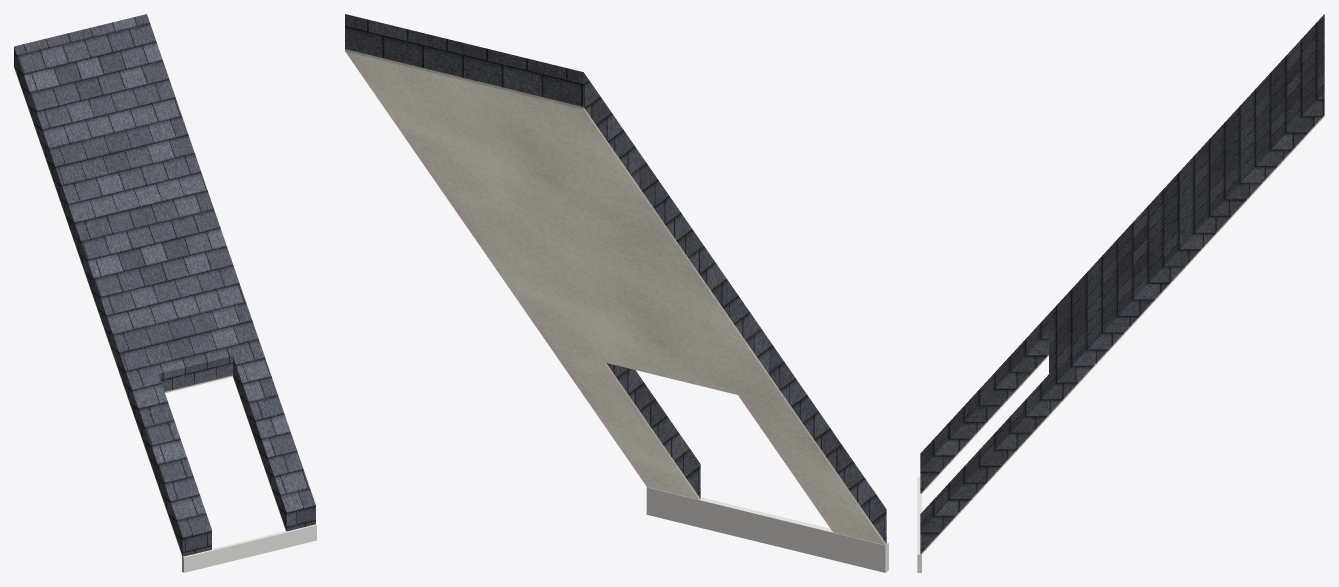
Rendered from roof_slope_dormer.glb.
3 views of the same model, side by side, from view 1: azimuth 30°, elevation 25°; view 2: azimuth 150°, elevation 25°; view 3: azimuth 270°, elevation 25° (orthographic). The views are drawn at different scales.
Parts seen in each view (by area): view 1: roof_slope_dormer_shingles, roof_slope_dormer_trim, roof_slope_dormer_plaster; view 2: roof_slope_dormer_plaster, roof_slope_dormer_shingles, roof_slope_dormer_trim; view 3: roof_slope_dormer_shingles, roof_slope_dormer_plaster.
Part boxes in pixels (x1,y1,x2,y2): roof_slope_dormer_shingles: (14, 14, 315, 556); roof_slope_dormer_trim: (182, 524, 316, 572); roof_slope_dormer_plaster: (14, 66, 286, 556); roof_slope_dormer_plaster: (345, 49, 886, 546); roof_slope_dormer_shingles: (345, 14, 886, 543); roof_slope_dormer_trim: (646, 487, 888, 572); roof_slope_dormer_shingles: (920, 14, 1324, 553); roof_slope_dormer_plaster: (920, 115, 1324, 555).
Bounding box in the file's own units: 2 × 5.78 × 4.43.
3 materials, 2 textured.
